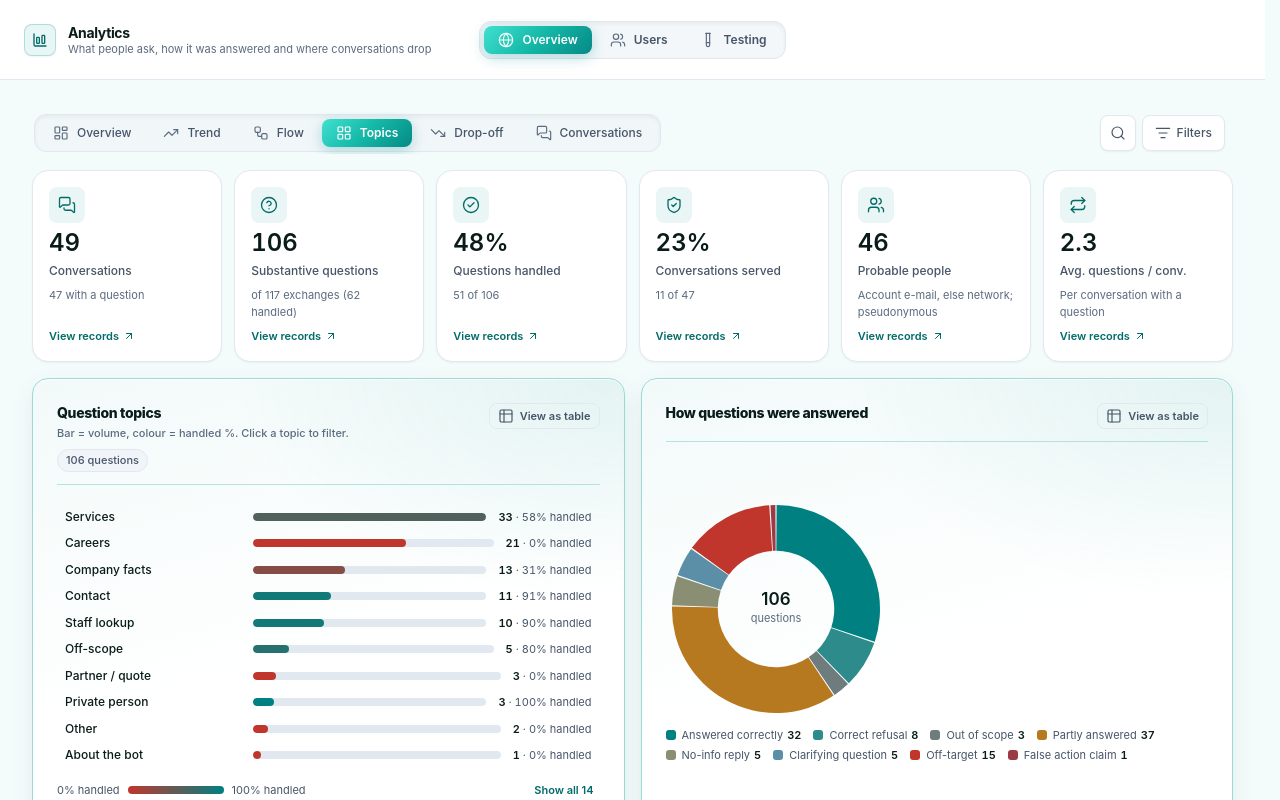
Scenario: Analytics page renders the HTML's numbers › 'View as table' lists the same numbers as the chart
Step 1. Click the button "View as table" in the row of "Question topics" → (544,416), box left=489, top=402, right=600, bottom=429
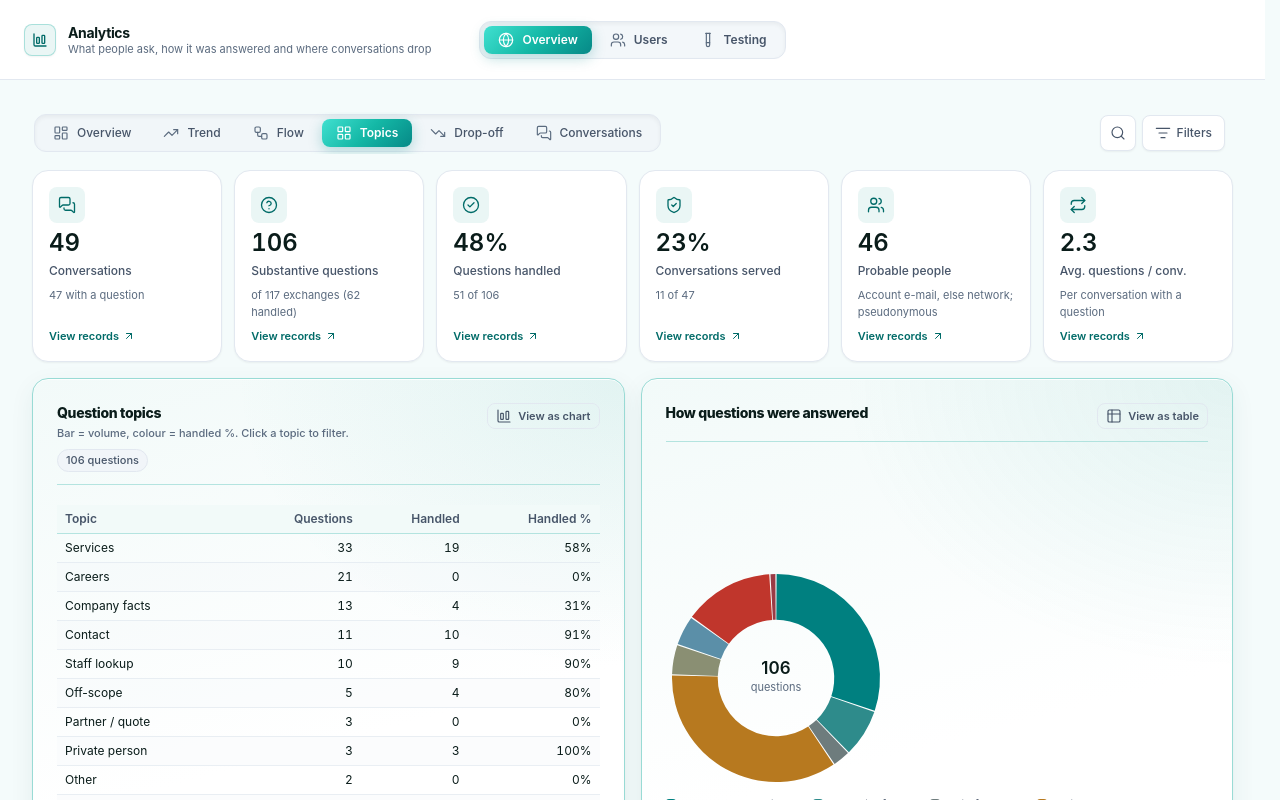
Expected: the text "33" is shown, left=236, top=533, right=361, bottom=562
Result: the text "Services" is shown at left=65, top=540, right=114, bottom=554
